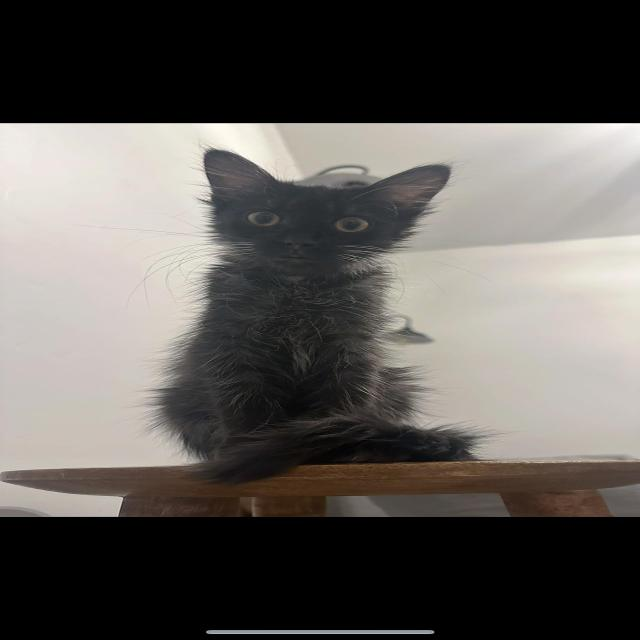domestic_long_hair_cat: (144, 138, 474, 299)
